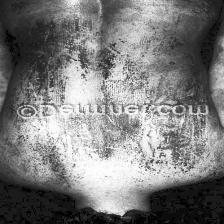Non-Cancerous Skin Condition: (16, 18, 196, 100), (16, 123, 210, 182)
